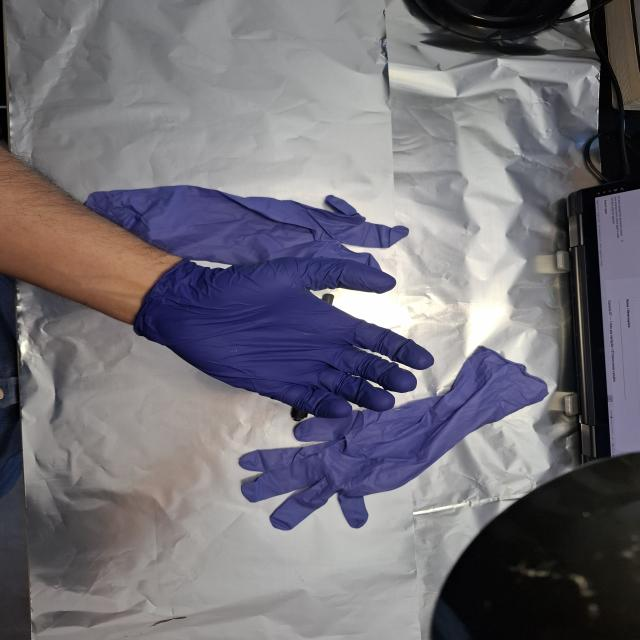glove_on: (132, 254, 438, 421)
